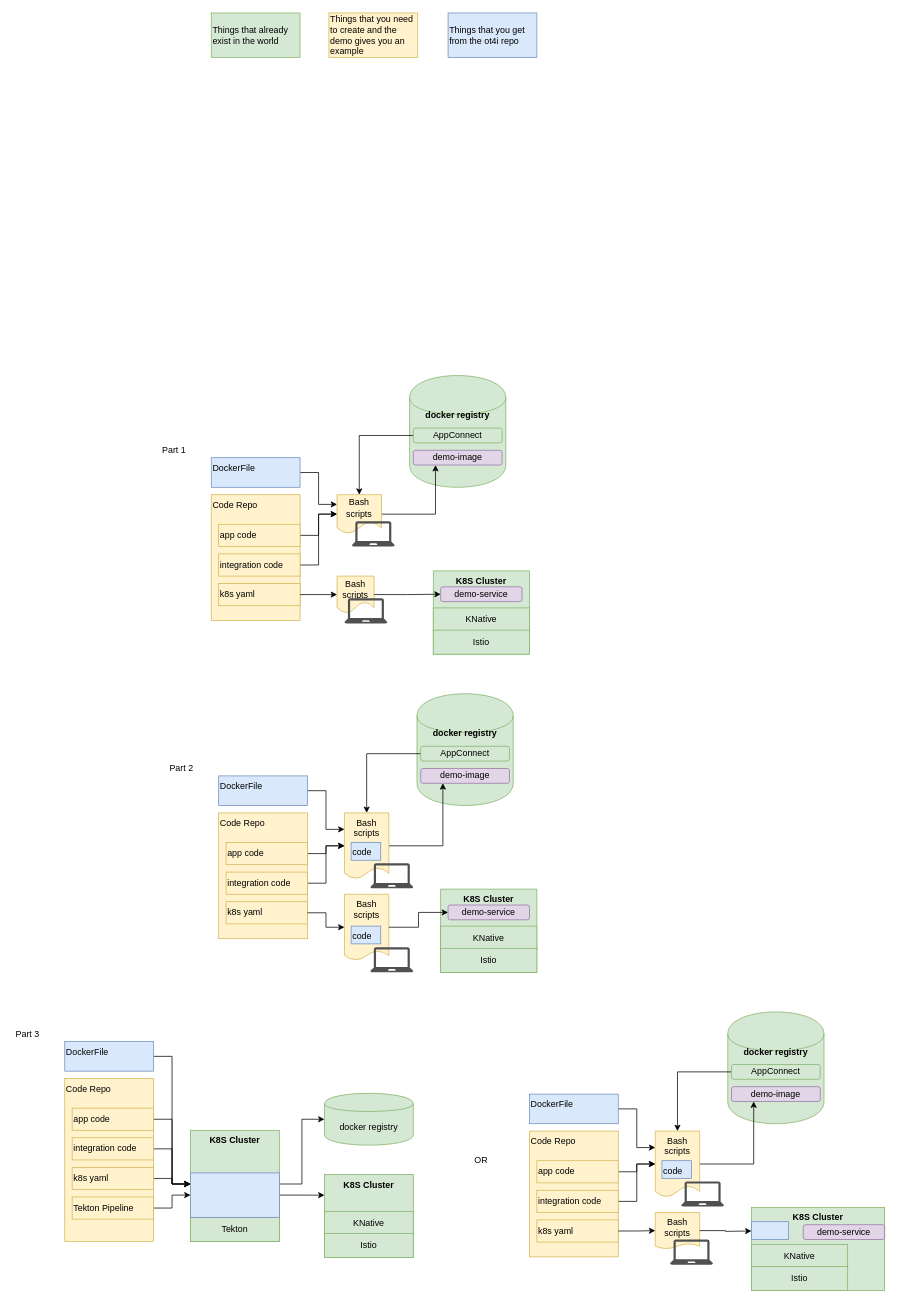
Image size: 898x1304. Some labels were removed from this diagram. The centre of each missing label's shape, as x and y in pixels:
AppConnect Tekton Extensions: (234,1194)
operator: (769,1230)
